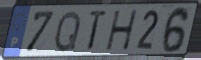2: (135, 8, 160, 51)
6: (160, 5, 192, 55)
7: (26, 10, 56, 55)
H: (105, 8, 139, 53)
Q: (53, 9, 83, 54)
T: (86, 9, 109, 53)
